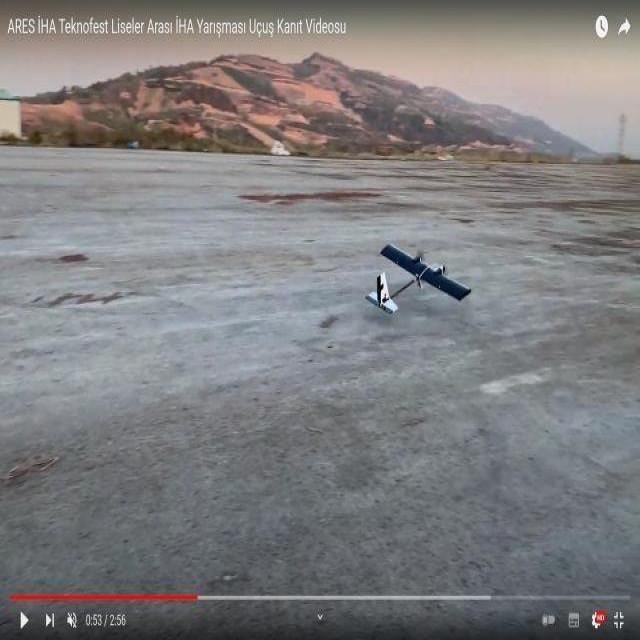Airplane: (363, 226, 479, 341)
